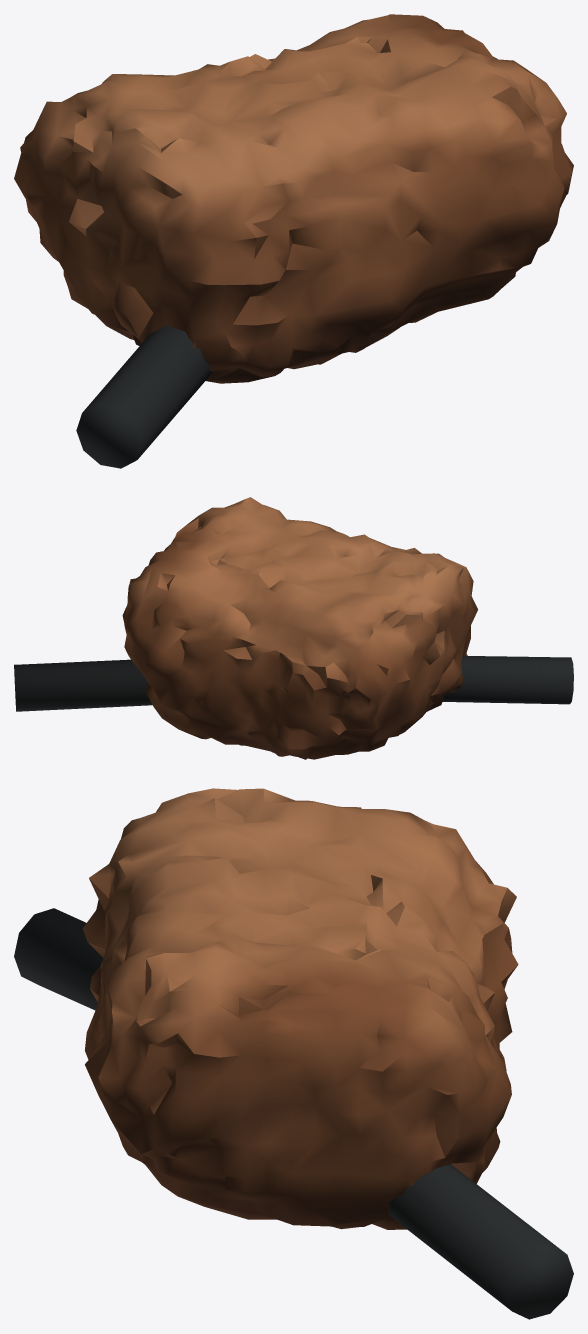
The model's file is canopy_hose_clamp.glb.
The picture shows the model from 3 angles, top to bottom: view 1: azimuth 30°, elevation 25°; view 2: azimuth 150°, elevation 25°; view 3: azimuth 270°, elevation 25°; orthographic projection. The views are drawn at different scales.
Visible parts, largest first — view 1: canopy_hose_clamp; view 2: canopy_hose_clamp; view 3: canopy_hose_clamp.
Part boxes in pixels (<box>): canopy_hose_clamp: <box>14,14,573,468</box>; canopy_hose_clamp: <box>14,497,573,759</box>; canopy_hose_clamp: <box>14,788,573,1319</box>.
Size of the model in its own units: 5.28 by 2.08 by 3.51.
